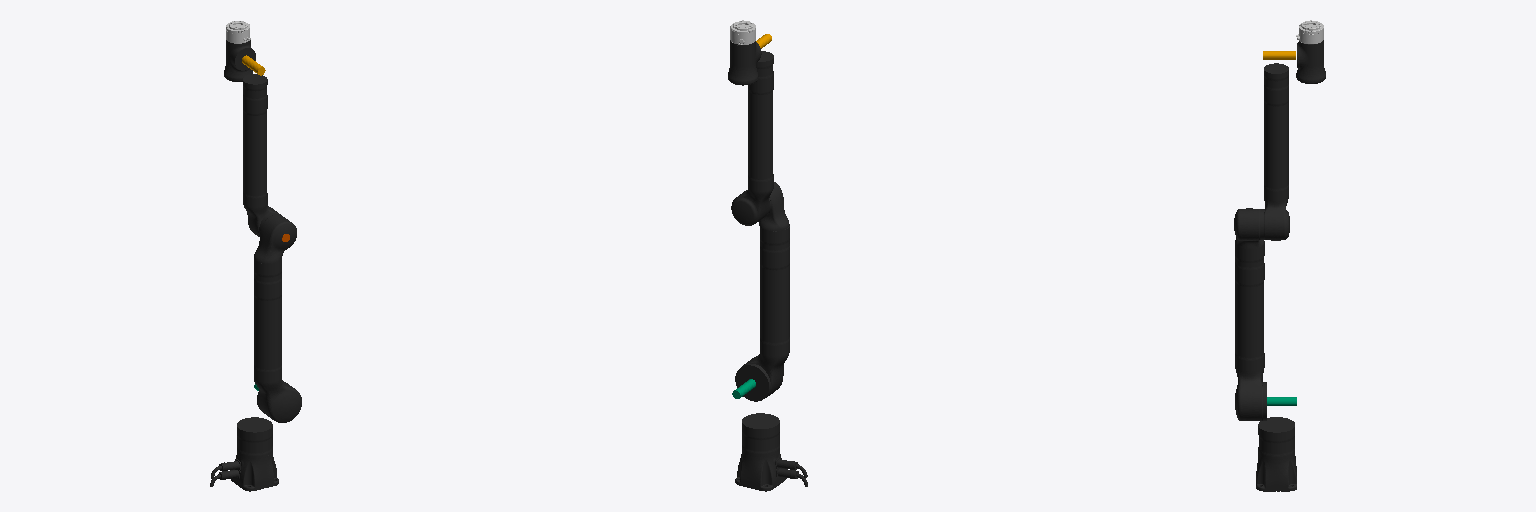
URDF robot description (kr2_robot_a1205):
<?xml version="1.0" ?>
<!-- =================================================================================== -->
<!-- |    This document was autogenerated by xacro from src/kr2_robot_S00V0000M1205.xacro | -->
<!-- |    EDITING THIS FILE BY HAND IS NOT RECOMMENDED                                 | -->
<!-- =================================================================================== -->
<robot features="TIO" mechanical-revision="5" model="a1205" model-revision="030424-0" name="kr2_robot_a1205">
  <ruid>0</ruid>
  <!-- links -->
  <link name="base">
    <visual>
      <origin rpy="0 0 0" xyz="0 0 0"/>
      <geometry>
        <mesh filename="package://ros2_description/meshes/a1205/a1205_Base.stl" scale="0.001 0.001 0.001"/>
      </geometry>
      <material name="">
        <color rgba="0.2 0.2 0.2 1"/>
      </material>
    </visual>
    <inertial>
      <origin rpy="0 0 0" xyz="0 0 0"/>
      <mass value="0.6"/>
      <inertia ixx="0.003" ixy="0.0" ixz="0.0" iyy="0.003" iyz="0.0" izz="0.003"/>
    </inertial>
  </link>
  <link name="link1">
    <visual>
      <origin rpy="0 0 0" xyz="0.05 0 0.2736"/>
      <geometry>
        <mesh filename="package://ros2_description/meshes/a1205/a1205_Link2.stl" scale="0.001 0.001 0.001"/>
      </geometry>
      <material name="">
        <color rgba="0.2 0.2 0.2 1"/>
      </material>
    </visual>
    <inertial>
      <origin rpy="0 0 0" xyz="0 0 0.13684999999999997"/>
      <mass value="6.0"/>
      <inertia ixx="0.003" ixy="0.0" ixz="0.0" iyy="0.003" iyz="0.0" izz="0.003"/>
    </inertial>
  </link>
  <link name="linkJ2">
    <visual>
      <origin rpy="1.5707963267948966 0 0" xyz="0 -0.01 0"/>
      <geometry>
        <cylinder length="0.15" radius="0.015"/>
      </geometry>
      <material name="orange"/>
    </visual>
    <collision>
      <origin rpy="1.5707963267948966 0 0" xyz="0 -0.01 0"/>
      <geometry>
        <cylinder length="0.15" radius="0.015"/>
      </geometry>
    </collision>
    <inertial>
      <origin rpy="0 0 0" xyz="0 0 0"/>
      <mass value="6.1"/>
      <inertia ixx="0.003" ixy="0.0" ixz="0.0" iyy="0.003" iyz="0.0" izz="0.003"/>
    </inertial>
  </link>
  <link name="link2">
    <visual>
      <origin rpy="0 0 0" xyz="0.05 -0.00 0.00"/>
      <geometry>
        <mesh filename="package://ros2_description/meshes/a1205/a1205_Link3.stl" scale="0.001 0.001 0.001"/>
      </geometry>
      <material name="">
        <color rgba="0.2 0.2 0.2 1"/>
      </material>
    </visual>
    <inertial>
      <origin rpy="0 0 0" xyz="0 0 0.17500000000000002"/>
      <mass value="0.69"/>
      <inertia ixx="0.003" ixy="0.0" ixz="0.0" iyy="0.003" iyz="0.0" izz="0.003"/>
    </inertial>
  </link>
  <link name="link3">
    <visual>
      <origin rpy="0 0 0" xyz="0.041 0  0.3429"/>
      <geometry>
        <mesh filename="package://ros2_description/meshes/a1205/a1205_Link4.stl" scale="0.001 0.001 0.001"/>
      </geometry>
      <material name="">
        <color rgba="0.2 0.2 0.2 1"/>
      </material>
    </visual>
    <inertial>
      <origin rpy="0 0 0" xyz="0 0 0"/>
      <mass value="2.9"/>
      <inertia ixx="0.003" ixy="0.0" ixz="0.0" iyy="0.003" iyz="0.0" izz="0.003"/>
    </inertial>
  </link>
  <link name="linkJ4">
    <visual>
      <origin rpy="1.5707963267948966 0 0" xyz="0 0.013000000000000001 0"/>
      <geometry>
        <cylinder length="0.129" radius="0.015"/>
      </geometry>
      <material name="orange"/>
    </visual>
    <collision>
      <origin rpy="1.5707963267948966 0 0" xyz="0 0.013000000000000001 0"/>
      <geometry>
        <cylinder length="0.129" radius="0.015"/>
      </geometry>
    </collision>
    <inertial>
      <origin rpy="0 0 0" xyz="0 0.006500000000000001 0"/>
      <mass value="3.8"/>
      <inertia ixx="0.003" ixy="0.0" ixz="0.0" iyy="0.003" iyz="0.0" izz="0.003"/>
    </inertial>
  </link>
  <link name="link4">
    <visual>
      <origin rpy="0 0 0" xyz="0.041 0.0 0"/>
      <geometry>
        <mesh filename="package://ros2_description/meshes/a1205/a1205_Link5.stl" scale="0.001 0.001 0.001"/>
      </geometry>
      <material name="">
        <color rgba="0.2 0.2 0.2 1"/>
      </material>
    </visual>
    <inertial>
      <origin rpy="0 0 0" xyz="0 0 0.168"/>
      <mass value="0.46"/>
      <inertia ixx="0.003" ixy="0.0" ixz="0.0" iyy="0.003" iyz="0.0" izz="0.003"/>
    </inertial>
  </link>
  <link name="link5">
    <visual>
      <origin rpy="0 0 0" xyz="0.001 0.002 0.3035"/>
      <geometry>
        <mesh filename="package://ros2_description/meshes/a1205/a1205_Link6.stl" scale="0.001 0.001 0.001"/>
      </geometry>
      <material name="">
        <color rgba="0.2 0.2 0.2 1"/>
      </material>
    </visual>
    <inertial>
      <origin rpy="0 0 0" xyz="0 0 0"/>
      <mass value="1.7"/>
      <inertia ixx="0.003" ixy="0.0" ixz="0.0" iyy="0.003" iyz="0.0" izz="0.003"/>
    </inertial>
  </link>
  <link name="linkJ6">
    <visual>
      <origin rpy="1.5707963267948966 0 0" xyz="0 0.01 0"/>
      <geometry>
        <cylinder length="0.105" radius="0.015"/>
      </geometry>
      <material name="orange"/>
    </visual>
    <collision>
      <origin rpy="1.5707963267948966 0 0" xyz="0 0.01 0"/>
      <geometry>
        <cylinder length="0.105" radius="0.015"/>
      </geometry>
    </collision>
    <inertial>
      <origin rpy="0 0 0" xyz="0 0.004 0"/>
      <mass value="1.8"/>
      <inertia ixx="0.003" ixy="0.0" ixz="0.0" iyy="0.003" iyz="0.0" izz="0.003"/>
    </inertial>
  </link>
  <link name="link6">
    <visual>
      <origin rpy="0 0 0" xyz="0.001 0.00 0.002"/>
      <geometry>
        <mesh filename="package://ros2_description/meshes/a1205/a1205_Link7.stl" scale="0.001 0.001 0.001"/>
      </geometry>
      <material name="">
        <color rgba="0.2 0.2 0.2 1"/>
      </material>
    </visual>
    <inertial>
      <origin rpy="0 0 0" xyz="0 0 0.004"/>
      <mass value="1.8"/>
      <inertia ixx="0.003" ixy="0.0" ixz="0.0" iyy="0.003" iyz="0.0" izz="0.003"/>
    </inertial>
  </link>
  <link name="end_effector">
    <visual>
      <origin rpy="0 0 0" xyz="0.00 0 -0.105"/>
      <geometry>
        <mesh filename="package://ros2_description/meshes/a1205/a1205_ToolIO.stl" scale="0.001 0.001 0.001"/>
      </geometry>
      <material name="">
        <color rgba="0.8 0.8 0.8 1"/>
      </material>
    </visual>
    <inertial>
      <origin rpy="0 0 0" xyz="0 0 -0.0197"/>
      <mass value="0.56"/>
      <inertia ixx="0.003" ixy="0.0" ixz="0.0" iyy="0.003" iyz="0.0" izz="0.003"/>
    </inertial>
  </link>
  <!-- joints -->
  <joint name="joint0" type="continuous">
    <parent link="base"/>
    <child link="link1"/>
    <origin rpy="0.0 -0.0 0.0" xyz="0 0 0.035"/>
    <axis xyz="0 0 1"/>
    <dynamics damping="0.0"/>
    <limit effort="204" lower="-6.283185307179586" upper="6.283185307179586" velocity="3.9269908169872414"/>
  </joint>
  <joint name="joint1" type="continuous">
    <parent link="link1"/>
    <child link="linkJ2"/>
    <origin rpy="0.0 0.0 0.0" xyz="0.05 0.0 0.2737"/>
    <axis xyz="0 1 0"/>
    <dynamics damping="0.0"/>
    <limit effort="204" lower="-1.2217304763960306" upper="3.141592653589793" velocity="3.9269908169872414"/>
  </joint>
  <joint name="jointPL2" type="fixed">
    <parent link="linkJ2"/>
    <child link="link2"/>
    <origin rpy="0.0 -0.0 0.0" xyz="-0.05 -0.0857 0"/>
  </joint>
  <joint name="joint2" type="continuous">
    <parent link="link2"/>
    <child link="link3"/>
    <origin rpy="0 0 0" xyz="0 0 0.274"/>
    <axis xyz="0 0 1"/>
    <dynamics damping="0.0"/>
    <limit effort="85" lower="-6.283185307179586" upper="6.283185307179586" velocity="3.9269908169872414"/>
  </joint>
  <joint name="joint3" type="continuous">
    <parent link="link3"/>
    <child link="linkJ4"/>
    <origin rpy="0.0 0.0 0.0" xyz="0.04 0.0 0.3429"/>
    <axis xyz="0 1 0"/>
    <dynamics damping="0.0"/>
    <limit effort="85" lower="-1.2217304763960306" upper="3.141592653589793" velocity="3.9269908169872414"/>
  </joint>
  <joint name="jointPL4" type="fixed">
    <parent link="linkJ4"/>
    <child link="link4"/>
    <origin rpy="0.0 -0.0 0.0" xyz="-0.04 0.08405 0.0"/>
  </joint>
  <joint name="joint4" type="continuous">
    <parent link="link4"/>
    <child link="link5"/>
    <origin rpy="0 0 0" xyz="0 0 0.271"/>
    <axis xyz="0 0 1"/>
    <dynamics damping="0.0"/>
    <limit effort="51" lower="-6.283185307179586" upper="6.283185307179586" velocity="3.9269908169872414"/>
  </joint>
  <joint name="joint5" type="continuous">
    <parent link="link5"/>
    <child link="linkJ6"/>
    <origin rpy="0.0 0.0 0.0" xyz="0.0 0 0.3035"/>
    <axis xyz="0 1 0"/>
    <dynamics damping="0.0"/>
    <limit effort="51" lower="-6.283185307179586" upper="6.283185307179586" velocity="3.9269908169872414"/>
  </joint>
  <joint name="jointPL6" type="fixed">
    <parent link="linkJ6"/>
    <child link="link6"/>
    <origin rpy="0.0 0.0 0.0" xyz="0.0 0.111 0"/>
  </joint>
  <joint name="joint6" type="continuous">
    <parent link="link6"/>
    <child link="end_effector"/>
    <origin rpy="0 0 0" xyz="0 0 0.108"/>
    <axis xyz="0 0 1"/>
    <dynamics damping="0.0"/>
    <limit effort="51" lower="-6.283185307179586" upper="6.283185307179586" velocity="3.9269908169872414"/>
  </joint>
</robot>

--- What the picture shows (computed from the rendered views, not written in the file) ---
Views: 3 orthographic renders of the robot side by side, from view 1: azimuth 30°, elevation 25°; view 2: azimuth 150°, elevation 25°; view 3: azimuth 270°, elevation 25°.
Model kr2_robot_a1205 with 11 links and 10 joints (7 continuous, 3 fixed), rooted at base, posed all joints at 0.
Visible links, largest first — view 1: link2, link4, base, link3, link6; view 2: link2, link4, base, link6, link3, end_effector; view 3: link2, link4, base, link6, link3, end_effector.
Boxes of the visible links, x1,y1,x2,y2 form: link2: (254, 260, 301, 422); link4: (243, 74, 280, 236); base: (210, 417, 278, 491); link3: (254, 214, 296, 263); link6: (224, 40, 255, 81); link2: (735, 226, 789, 401); link4: (731, 51, 773, 225); base: (735, 413, 807, 491); link6: (728, 40, 761, 85); link3: (759, 182, 789, 231); end_effector: (730, 20, 755, 44); link2: (1235, 244, 1266, 420); link4: (1261, 63, 1289, 240); base: (1256, 417, 1296, 491); link6: (1296, 40, 1325, 83); link3: (1234, 208, 1264, 248); end_effector: (1296, 20, 1323, 43).
Bounding box of the posed robot: 0.2819 × 0.2946 × 1.61 m (x, y, z).
Meshes: 8 distinct files referenced, 6 mesh visuals loaded (6 binary STL); not drawn: 2 (reference not matched to a file when rendering).
